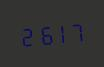one: (52, 19, 68, 45)
seven: (69, 18, 85, 44)
six: (35, 21, 51, 46)
two: (18, 22, 34, 48)
